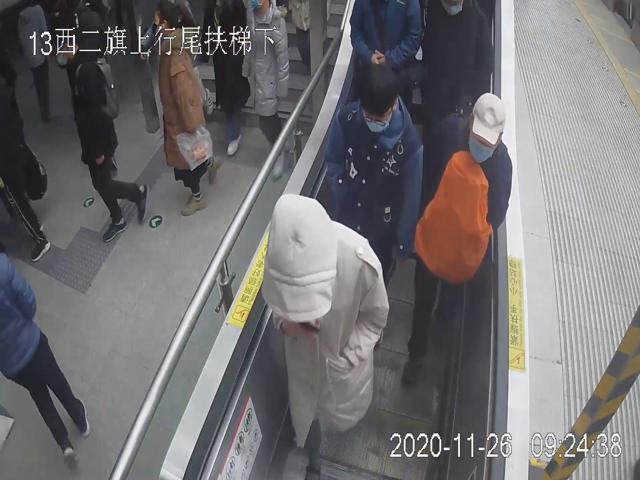person: (262, 190, 389, 480), (399, 91, 514, 388), (325, 64, 424, 274)
